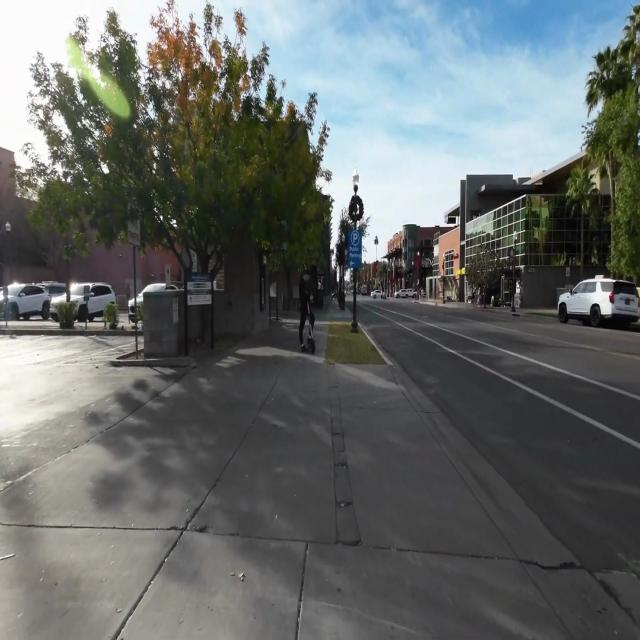road: (358, 303, 640, 575)
side walk: (0, 309, 560, 639), (368, 305, 640, 560)
street sign: (345, 187, 364, 334)
